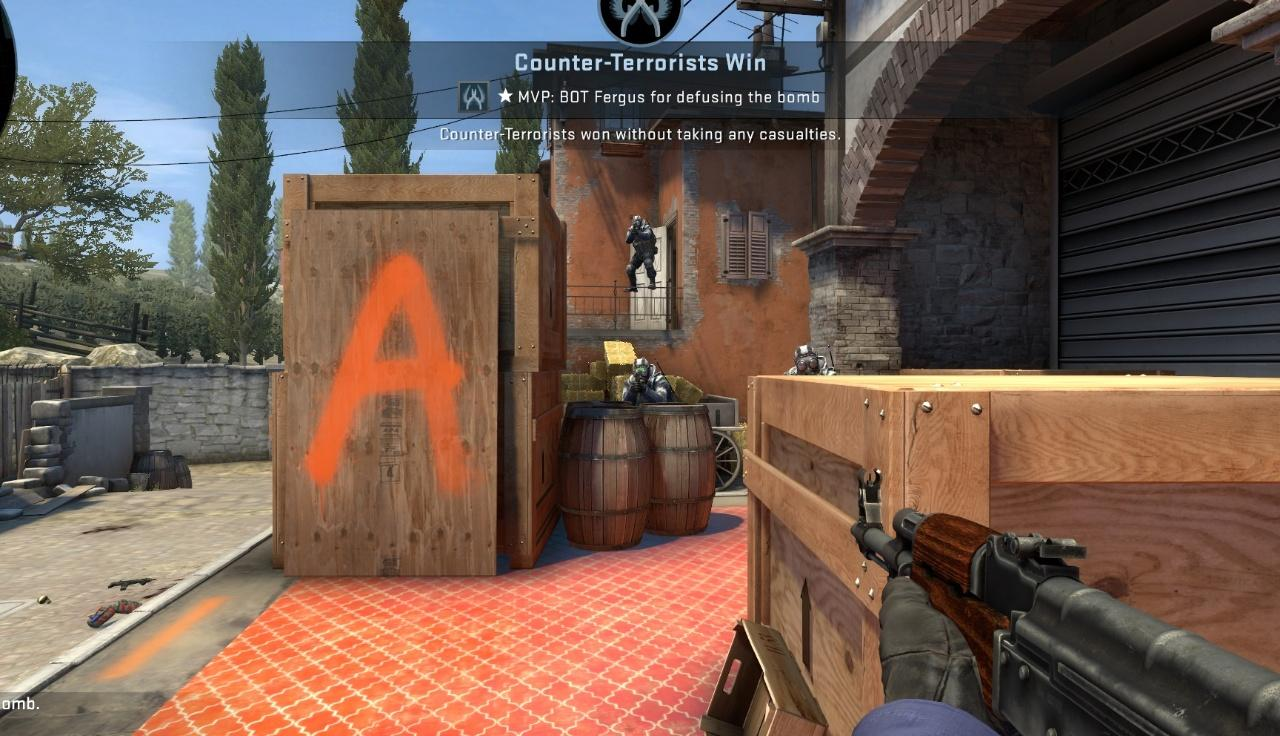ct: (624, 215, 658, 293), (621, 357, 674, 405), (784, 344, 837, 377)
cthead: (795, 344, 817, 376), (632, 358, 650, 383), (632, 216, 642, 229)
rifle: (849, 467, 1280, 734)
